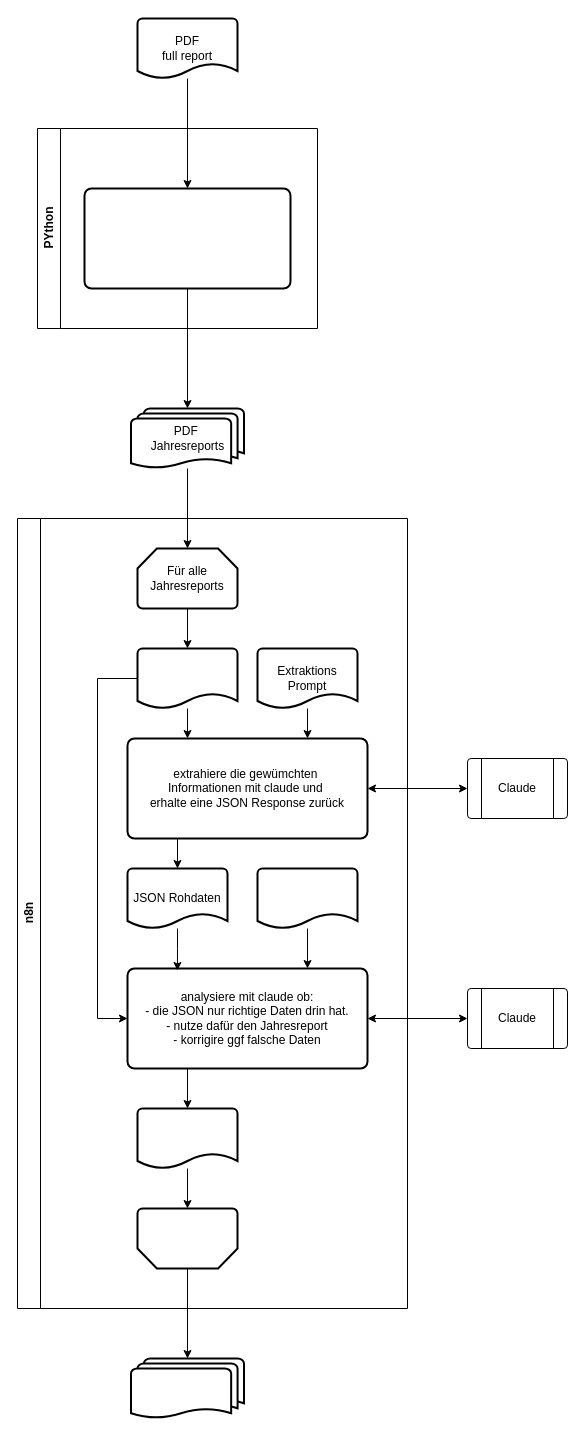
The diagram is 585 pixels wide and 1436 high, and some of its shapes have lost their labels. Each missing label, with the centre of its shape:
"JSON Jahresreports" goes at point 187,1388.
"JSON Validierte Daten" goes at point 187,1138.
"PDF Jahres Report" goes at point 187,678.
"Review Prompt" goes at point 307,898.
"Splitten anhand - Regex - Inhaltsverzeichnis - Metadaten Inhaltsverzeichniss" goes at point 187,238.
